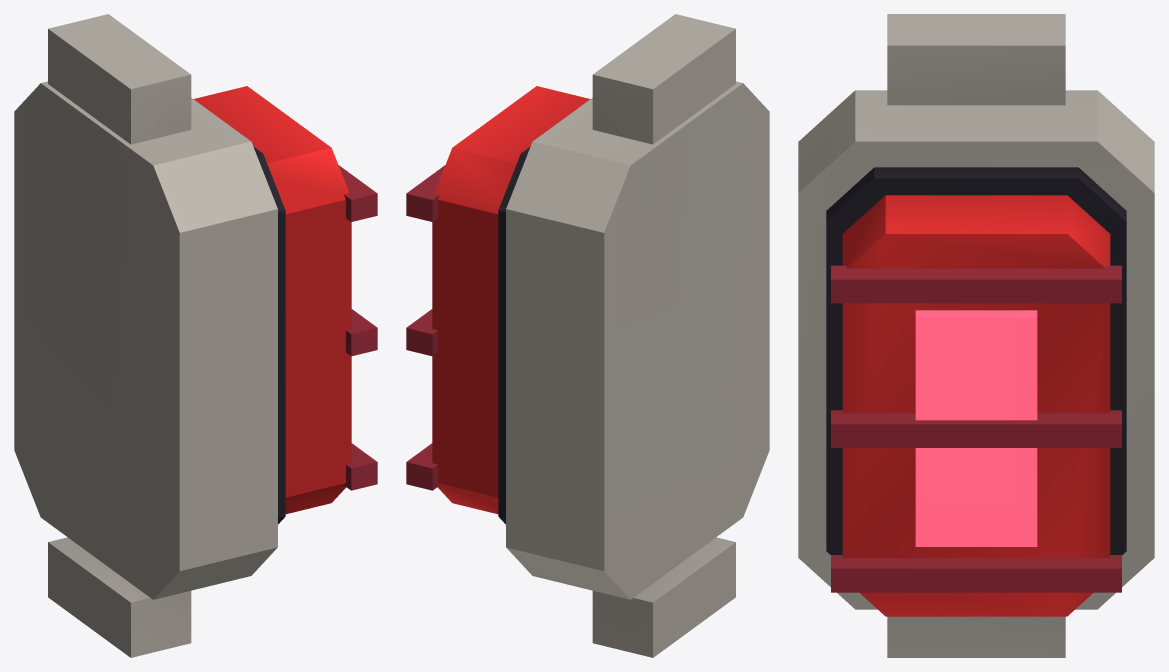
The picture shows the model from 3 angles, left to right: view 1: azimuth 30°, elevation 25°; view 2: azimuth 150°, elevation 25°; view 3: azimuth 270°, elevation 25°; orthographic projection. The views are drawn at different scales.
Parts seen in each view (by area): view 1: body_pal_silver, body_pal_sirenRed, body_pal_redDark, body_pal_uiDark; view 2: body_pal_silver, body_pal_sirenRed, body_pal_redDark, body_pal_uiDark; view 3: body_pal_silver, body_pal_sirenRed, body_pal_redDark, body_emi_redDark, body_pal_uiDark.
Part boxes in pixels (x1,y1,x2,y2): body_pal_silver: (14,14,277,657); body_pal_sirenRed: (193,86,351,514); body_pal_redDark: (338,165,377,490); body_pal_uiDark: (253,146,285,524); body_pal_silver: (506,14,769,657); body_pal_sirenRed: (432,86,590,514); body_pal_redDark: (406,165,445,490); body_pal_uiDark: (498,146,530,524); body_pal_silver: (798,14,1154,657); body_pal_sirenRed: (842,195,1110,616); body_pal_redDark: (831,265,1121,592); body_emi_redDark: (915,310,1037,546); body_pal_uiDark: (826,167,1126,554).
Bounding box in the file's own units: 0.2925 × 0.72 × 0.38.
